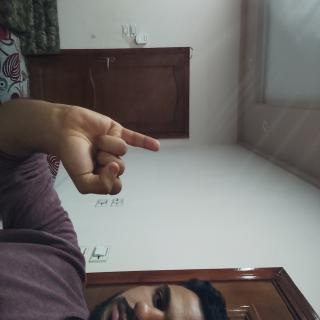MEEM: (73, 203, 149, 320)
